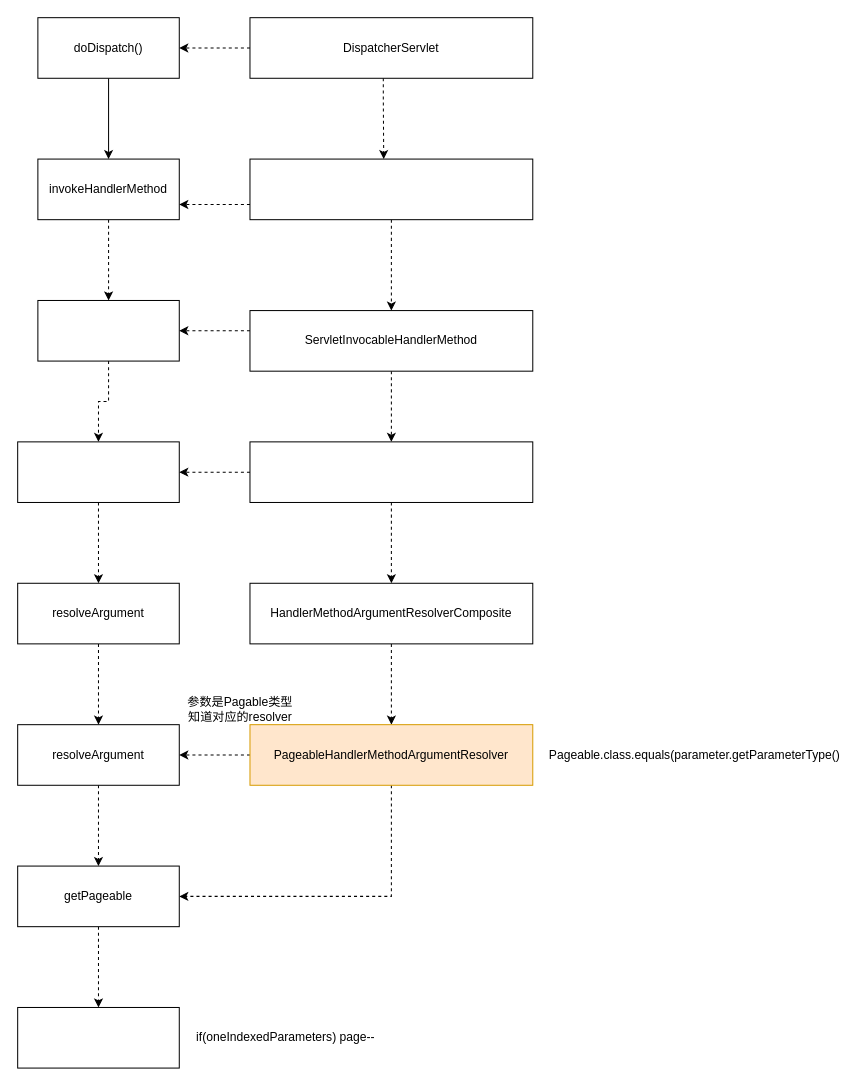
The diagram is 864 pixels wide and 1086 high, and some of its shapes have lost their labels. The shapes that lost their labels are listed below. From the top down, each one's centre as x and y in pixels, then its label:
At point (391, 189): "RequestMappingHandlerAdapter".
At point (108, 330): "invokeAndHandle".
At point (98, 471): "getMethodArgumentValues:".
At point (391, 471): "InvocableHandlerMethod".
At point (98, 1037): "parseAndApplyBoundaries".
